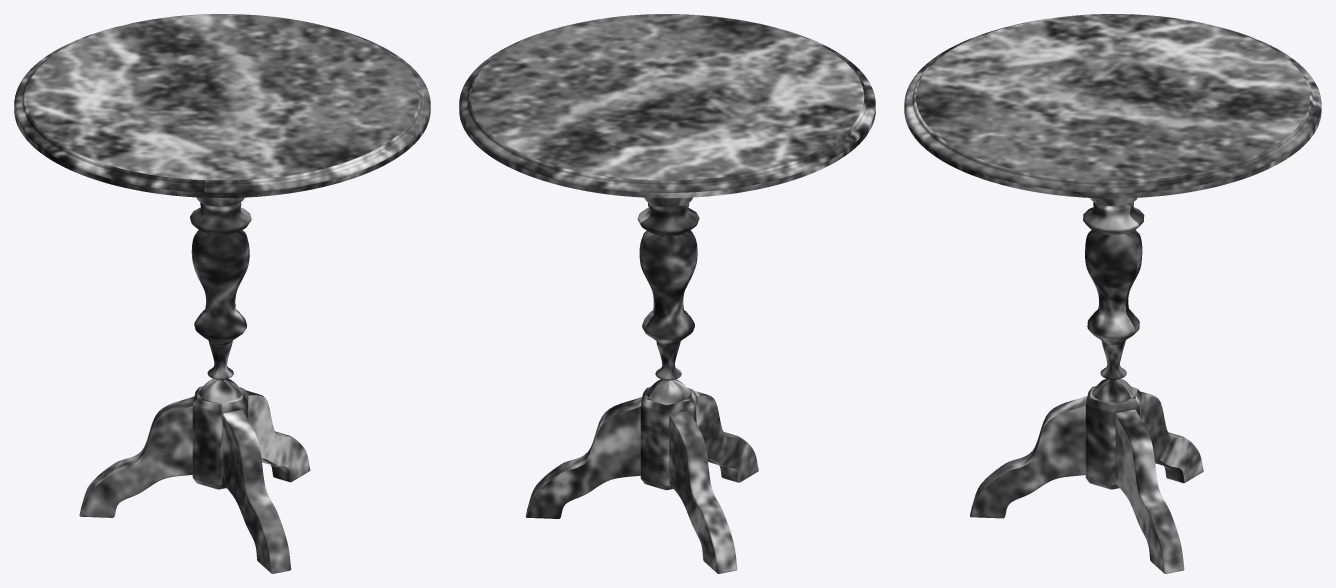
Rendered from Bar_table.obj.
3 renders of one model, left to right at view 1: azimuth 30°, elevation 25°; view 2: azimuth 150°, elevation 25°; view 3: azimuth 270°, elevation 25°, orthographic.
Parts seen in each view (by area): view 1: Bar_table; view 2: Bar_table; view 3: Bar_table.
Boxes of the visible parts, <box> form: Bar_table: <box>14,14,430,573</box>; Bar_table: <box>459,14,875,573</box>; Bar_table: <box>904,14,1321,573</box>.
Size of the model in its own units: 710 by 791 by 710.
Materials: 1 (1 with a texture image).
